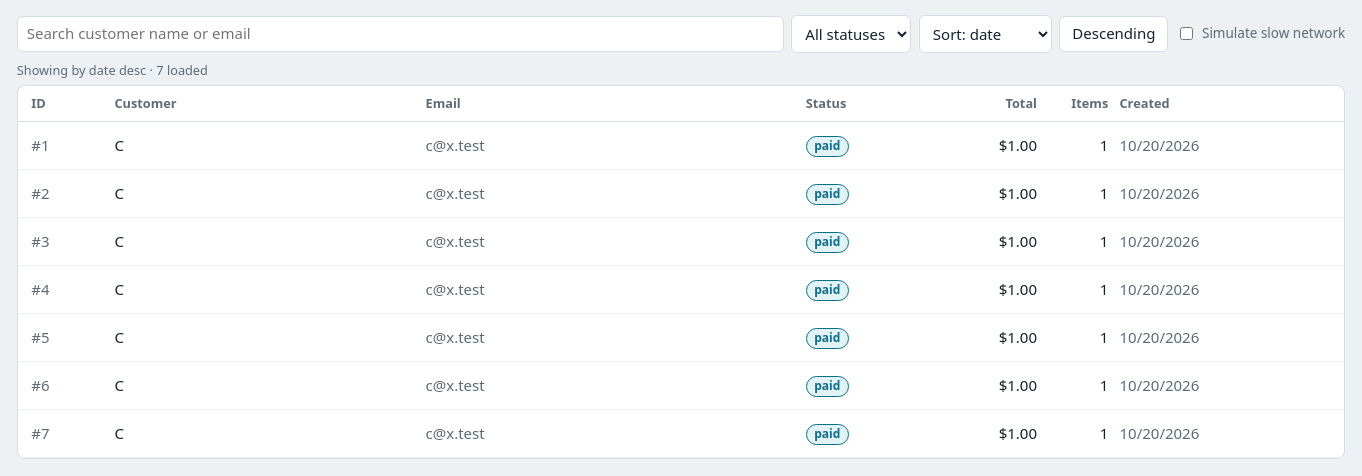
Scenario: OrdersList – stale responses › never lets an earlier, slower response overwrite the latest filter
Expected: the text "Showing by date desc · 7 loaded" is shown, [17,60,208,78]
Select "pending" in the dropdown named "Filter by status" at (851, 34), box [791,15,911,52]
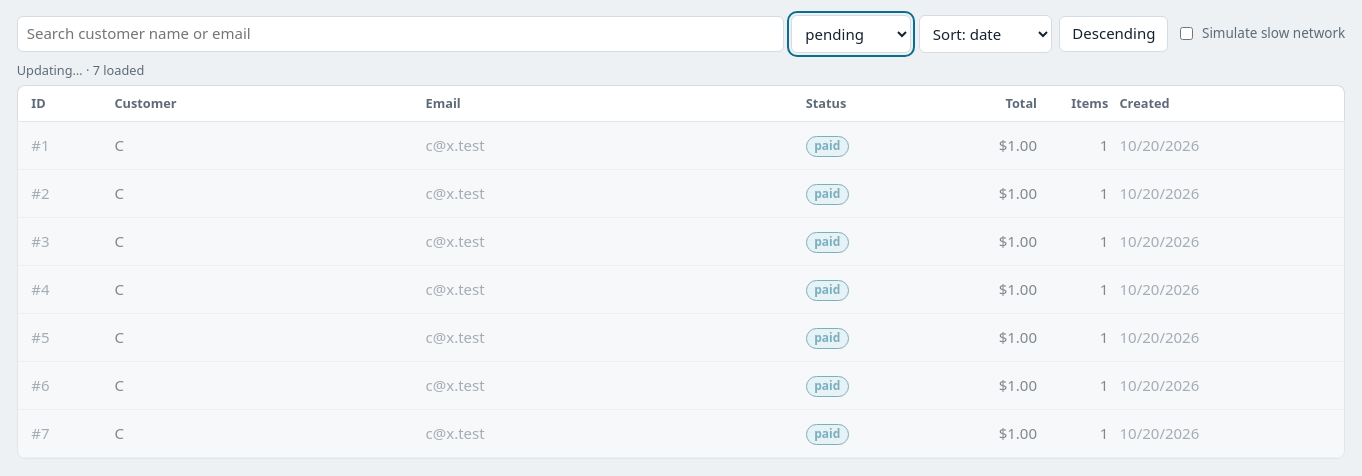
Select "paid" in the dropdown named "Filter by status" at (851, 34), box [791,15,911,52]
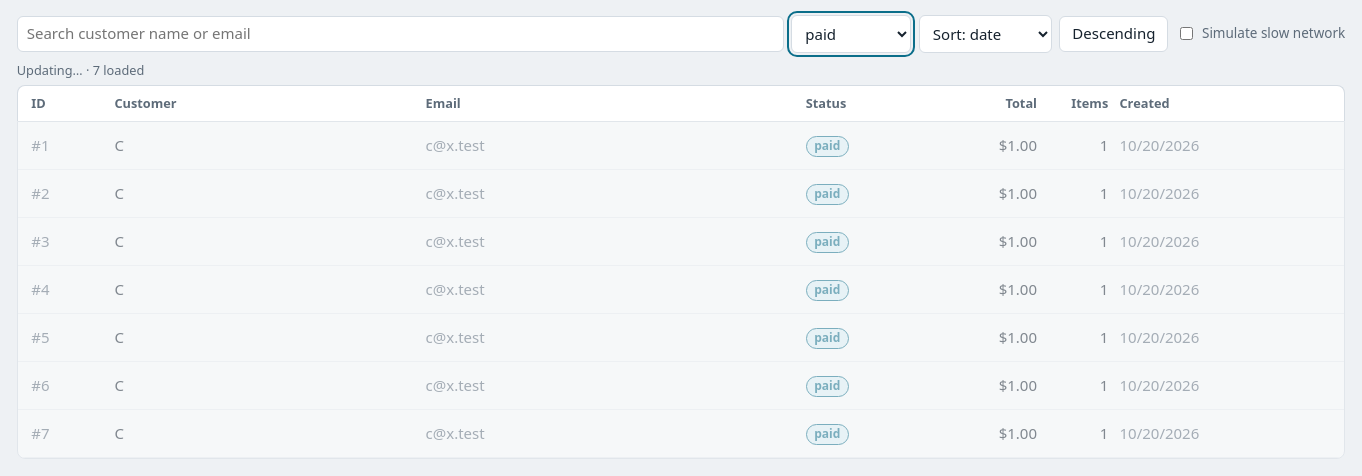
Select "cancelled" in the dropdown named "Filter by status" at (851, 34), box [791,15,911,52]
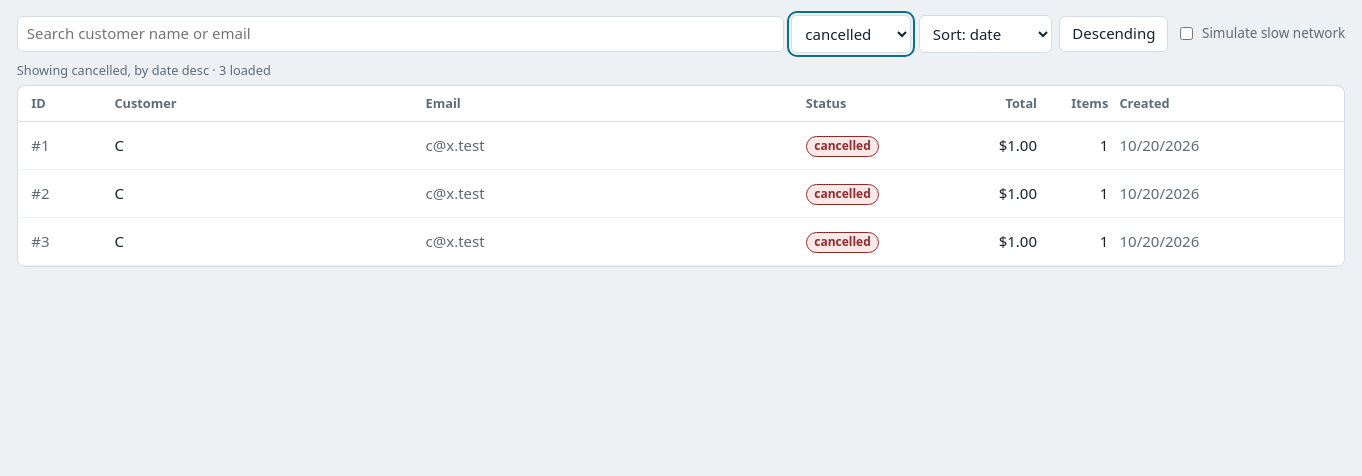
Result: the text "Showing cancelled, by date desc · 3 loaded" is shown at [17,60,271,78]
